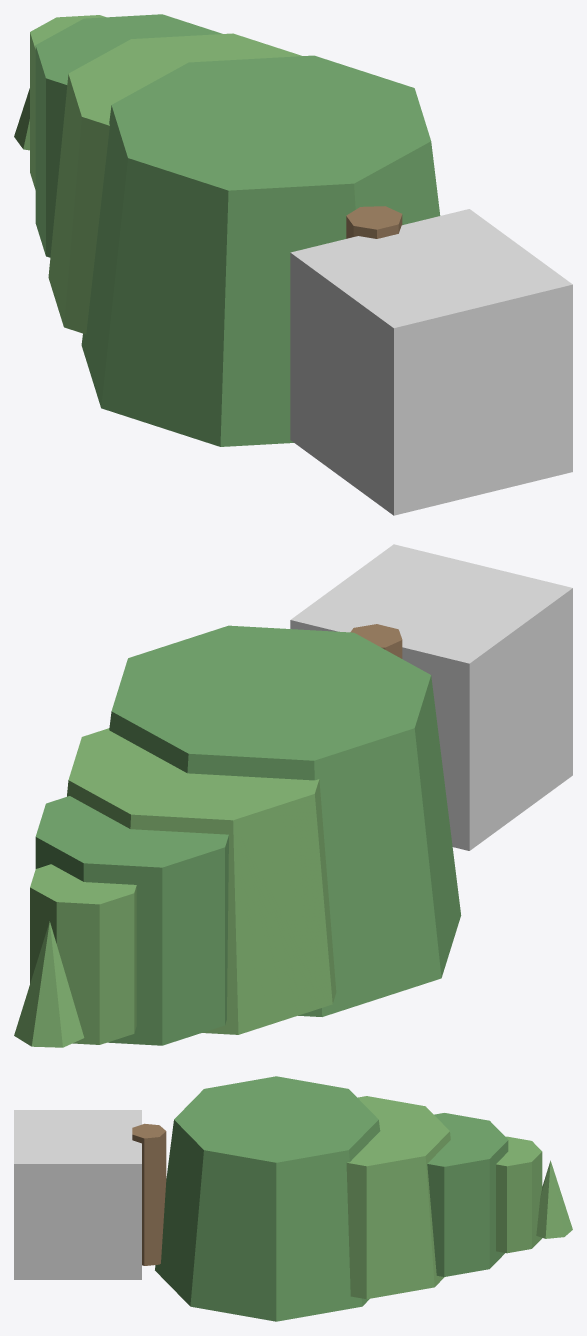
Rendered from tree_pine.fbx.
3 views of the same model, one above another, from view 1: azimuth 30°, elevation 25°; view 2: azimuth 150°, elevation 25°; view 3: azimuth 270°, elevation 25° (orthographic). The views are drawn at different scales.
Visible parts, largest first — view 1: Layer0, Cube, Layer1, Layer2, Trunk, Layer3; view 2: Layer0, Cube, Layer1, Layer2, Layer3, Top, Trunk; view 3: Layer0, Cube, Layer1, Layer2, Layer3, Trunk, Top.
Part boxes in pixels (x1,y1,x2,y2): Layer0: (81, 55, 440, 446); Cube: (290, 209, 572, 515); Layer1: (48, 33, 301, 334); Layer2: (35, 14, 222, 257); Trunk: (346, 206, 402, 238); Layer3: (30, 15, 105, 189); Layer0: (109, 625, 461, 1016); Cube: (290, 544, 572, 850); Layer1: (67, 728, 336, 1034); Layer2: (35, 796, 228, 1045); Layer3: (30, 864, 136, 1044); Top: (14, 921, 84, 1047); Trunk: (350, 624, 402, 658); Layer0: (155, 1076, 380, 1321); Cube: (14, 1110, 141, 1279); Layer1: (346, 1096, 450, 1299); Layer2: (427, 1113, 508, 1276); Layer3: (496, 1136, 542, 1253); Trunk: (132, 1123, 166, 1265); Top: (536, 1160, 572, 1238).
Bounding box in the file's own units: 380 × 260 × 873.
